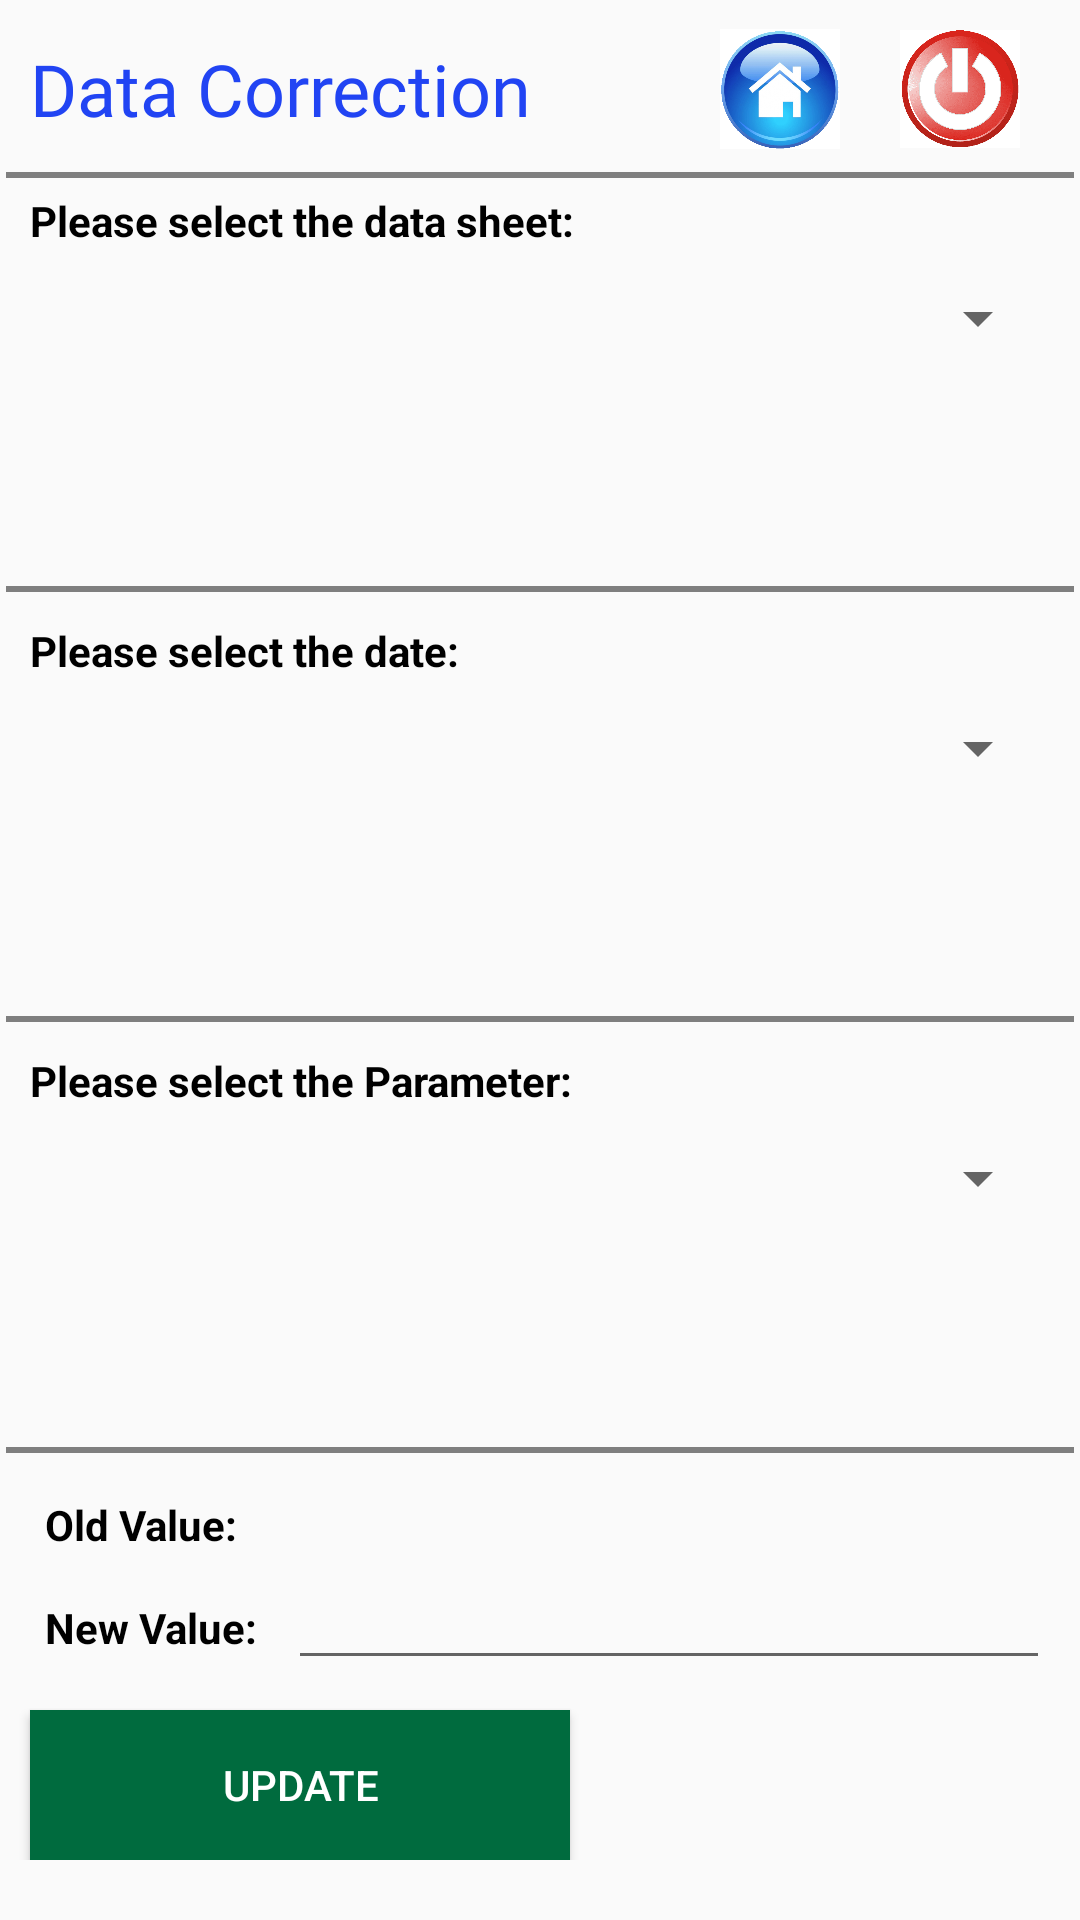

Where to tap for icons on this 1080px x 1920px app screen, as (x,y):
home: (779,90)
sign out: (960,88)
